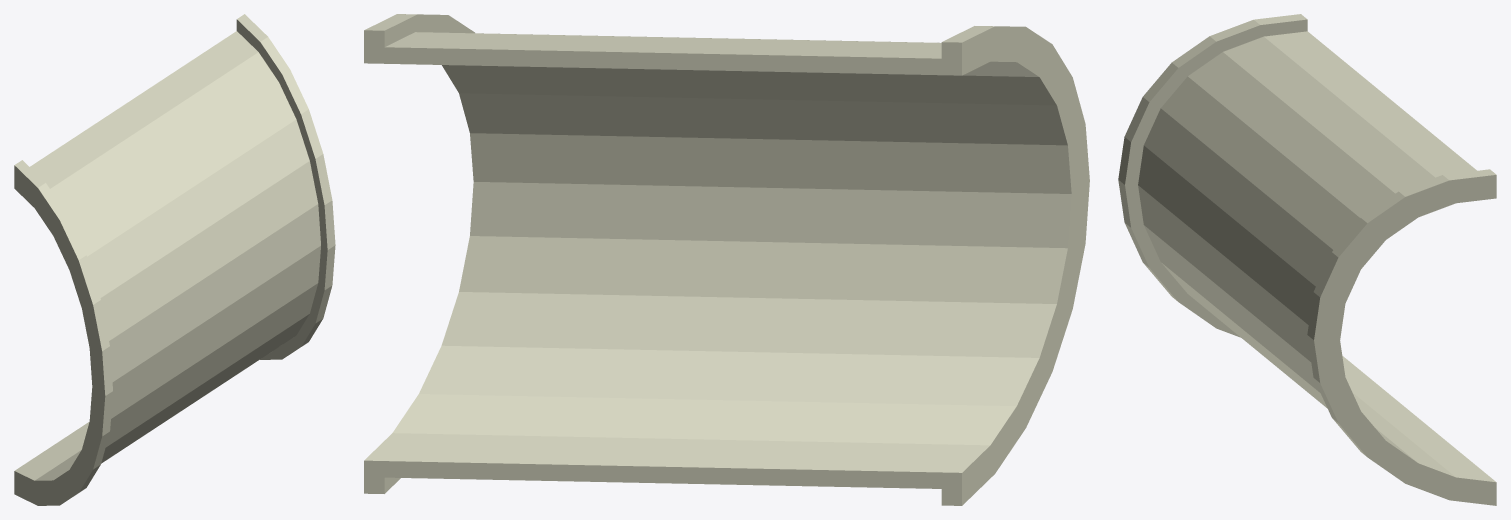
The model's file is section_023.obj.
3 renders of one model, left to right at view 1: azimuth 30°, elevation 25°; view 2: azimuth 150°, elevation 25°; view 3: azimuth 270°, elevation 25°, orthographic. The views are drawn at different scales.
Size of the model in its own units: 29.15 by 28 by 29.
